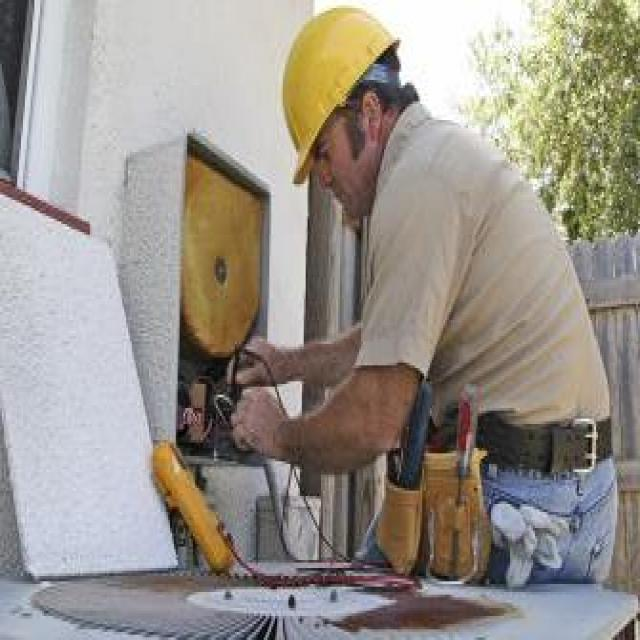Safety-Helmet: (269, 0, 405, 179)
